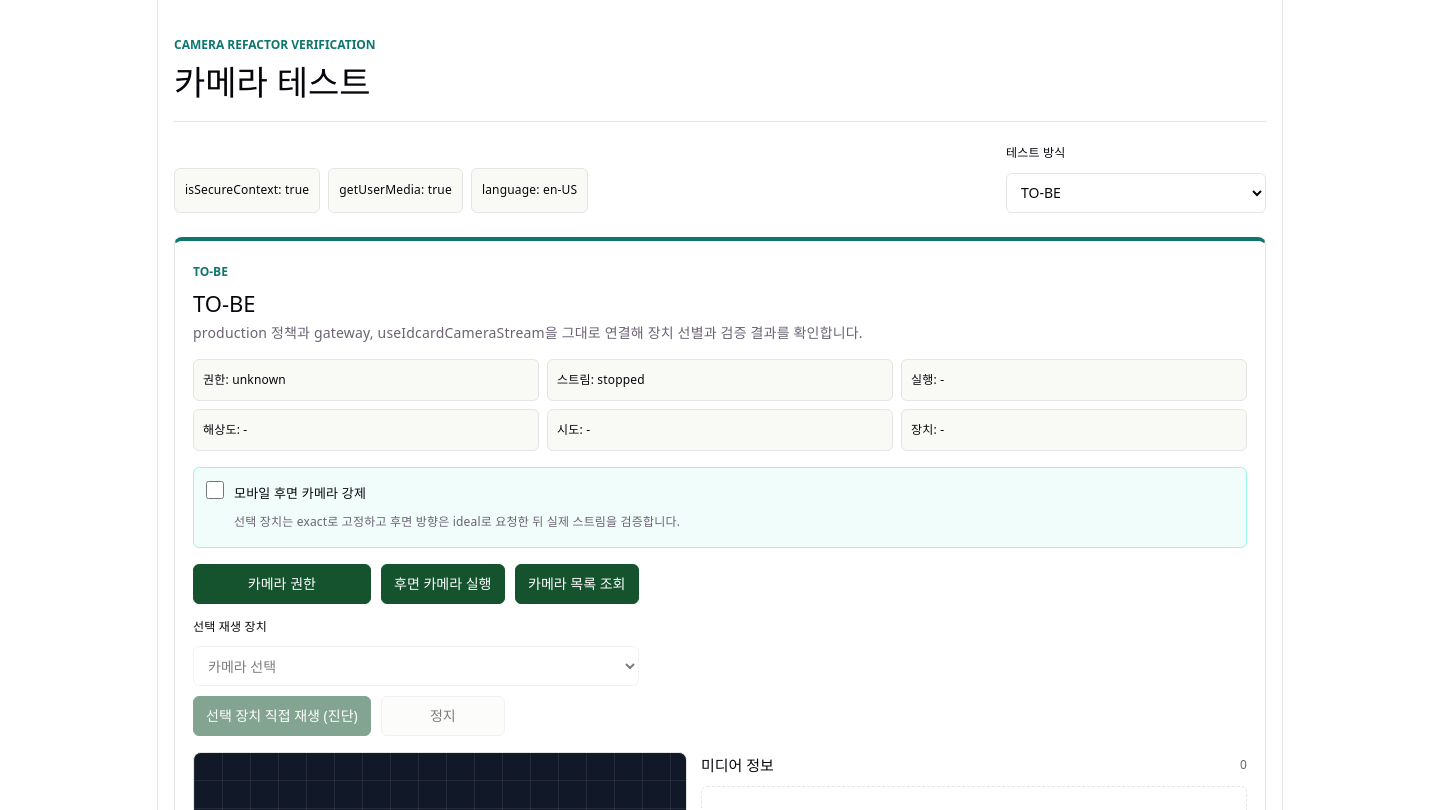
Test case: App › 선택한 모드의 패널만 mount한다
Expected: the heading "TO-BE" is shown, [193,288,256,318]
Expected: the heading "AS-IS" is not shown
Select "AS-IS" in the dropdown labelled "테스트 방식". click: (1136, 193)
box: [1006,173,1266,213]
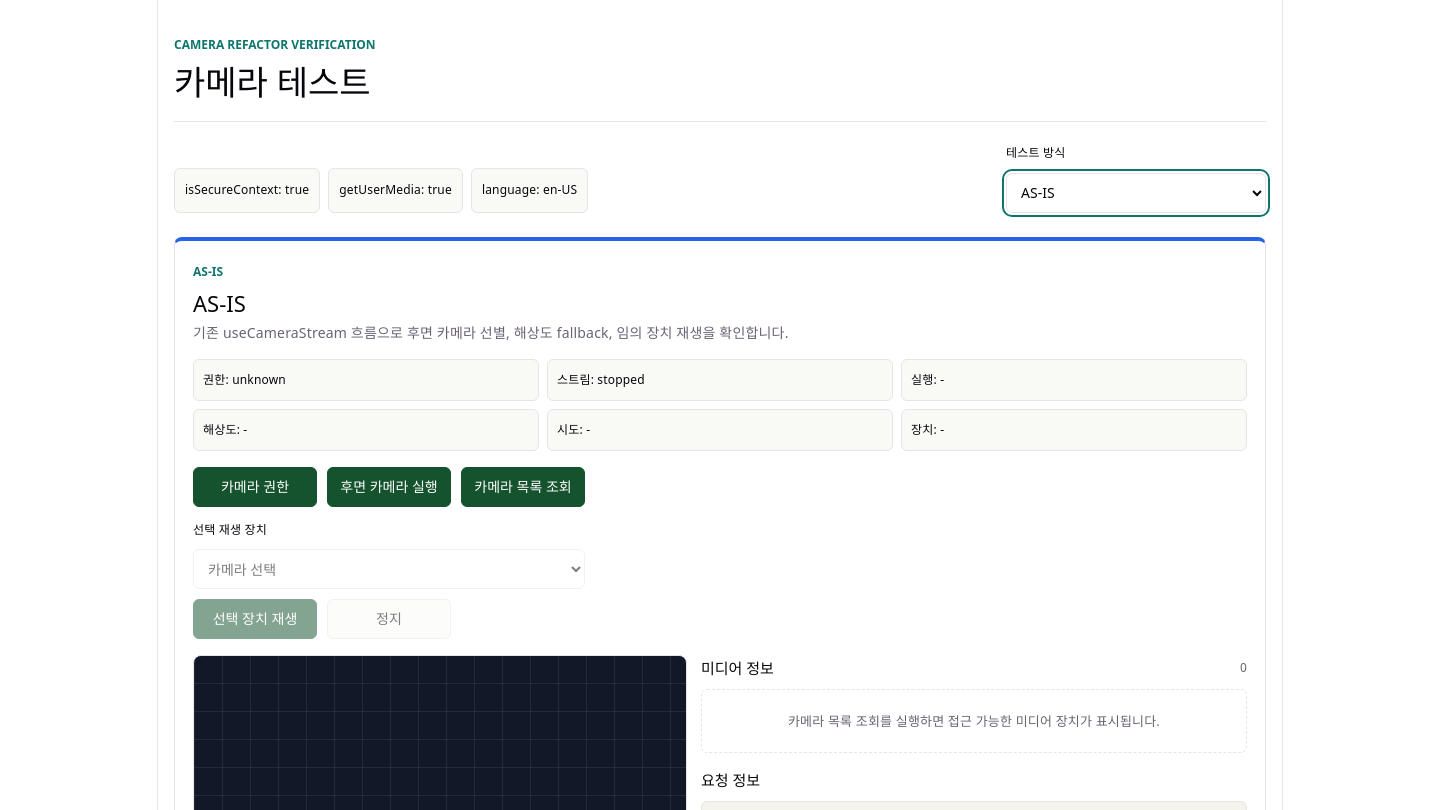
Expected: the text "to-be" is gone
Expected: the heading "AS-IS" is shown, [193,288,246,318]
